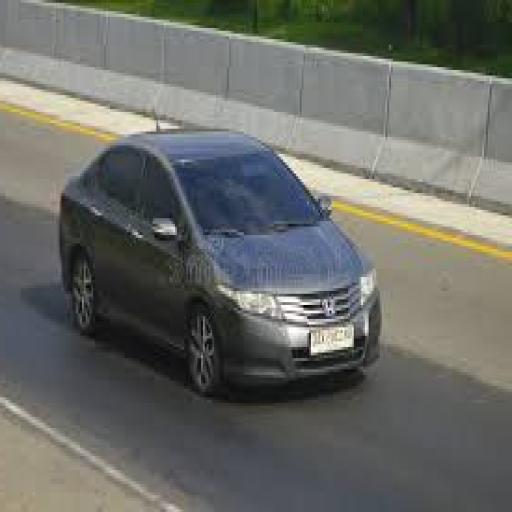License: (302, 323, 356, 360)
